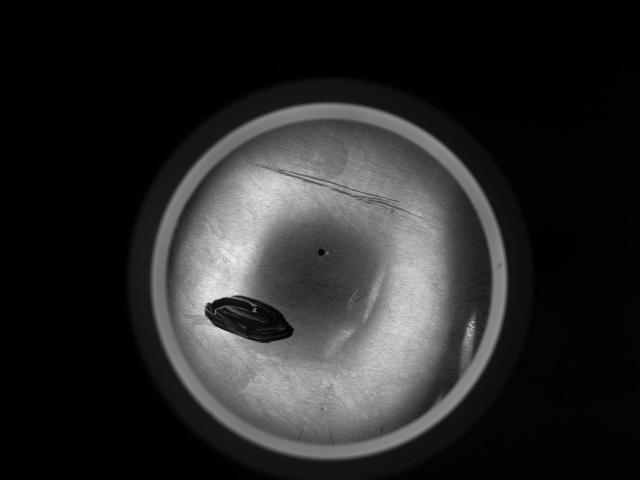ca_shang: (235, 158, 442, 227)
zang_wu: (201, 292, 297, 344)
zhen_kong: (312, 245, 331, 259)
